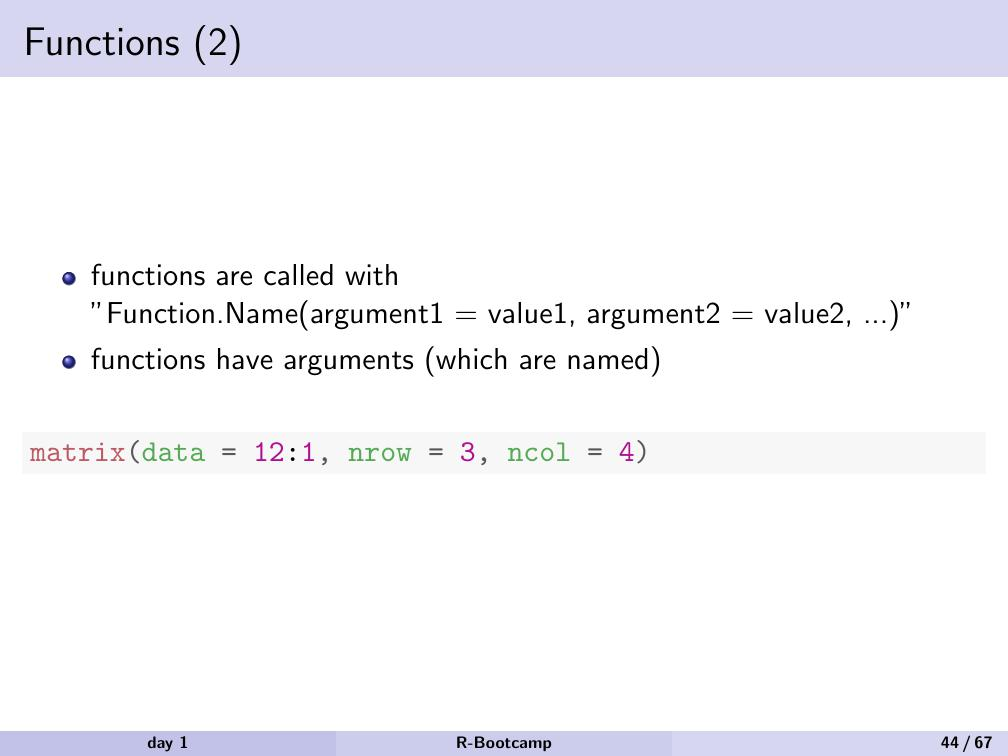Title: (11, 17, 247, 70)
